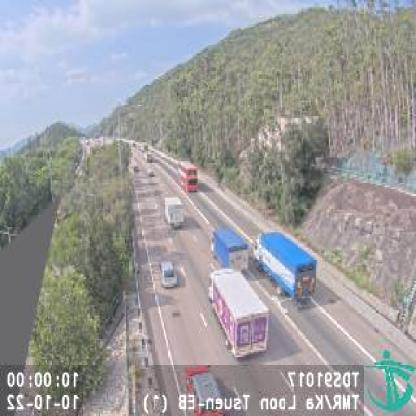Bus: (176, 160, 197, 192)
Car: (185, 366, 229, 416), (160, 259, 177, 286)
Truck: (209, 268, 268, 359), (254, 228, 316, 303), (211, 228, 249, 272), (163, 195, 184, 229)
